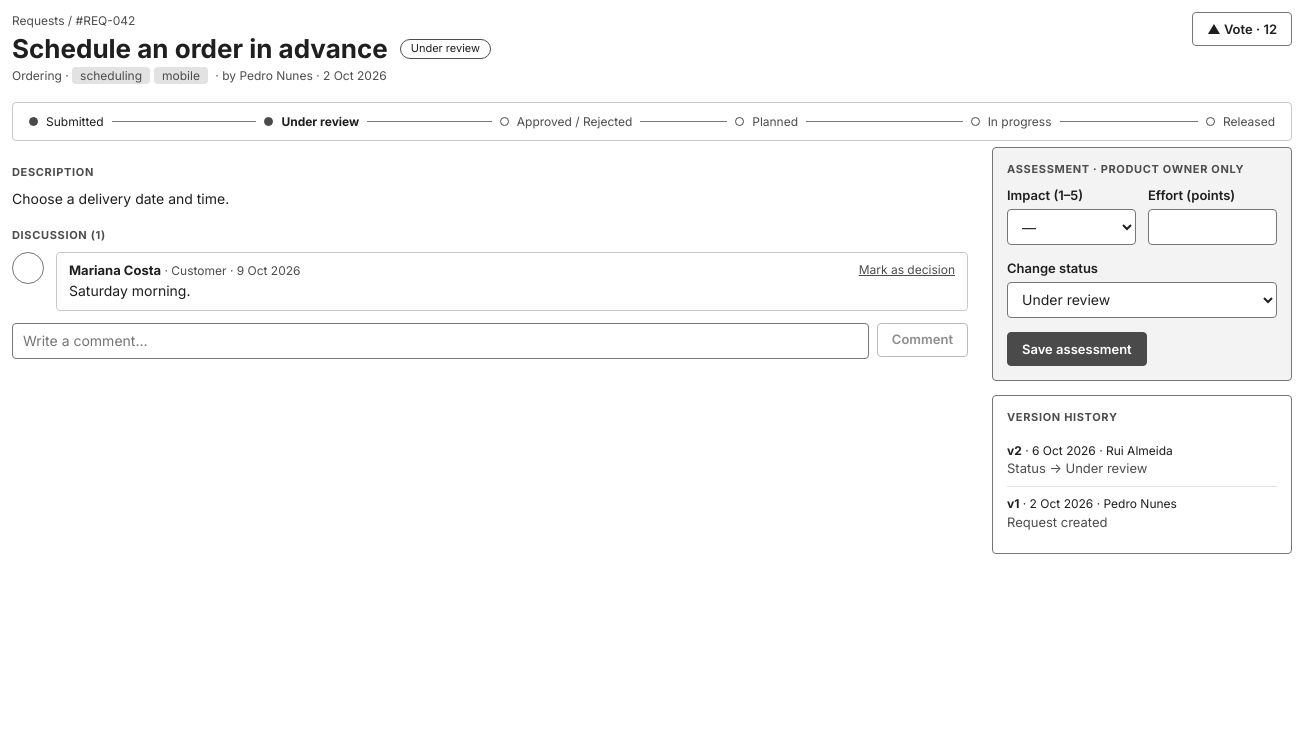
it: Request detail › lets the product owner save an assessment with the version seen
The image size is (1304, 732).
Select "5" in the dropdown labelled "Impact (1–5)": (1072, 227) [1007,209,1136,245]
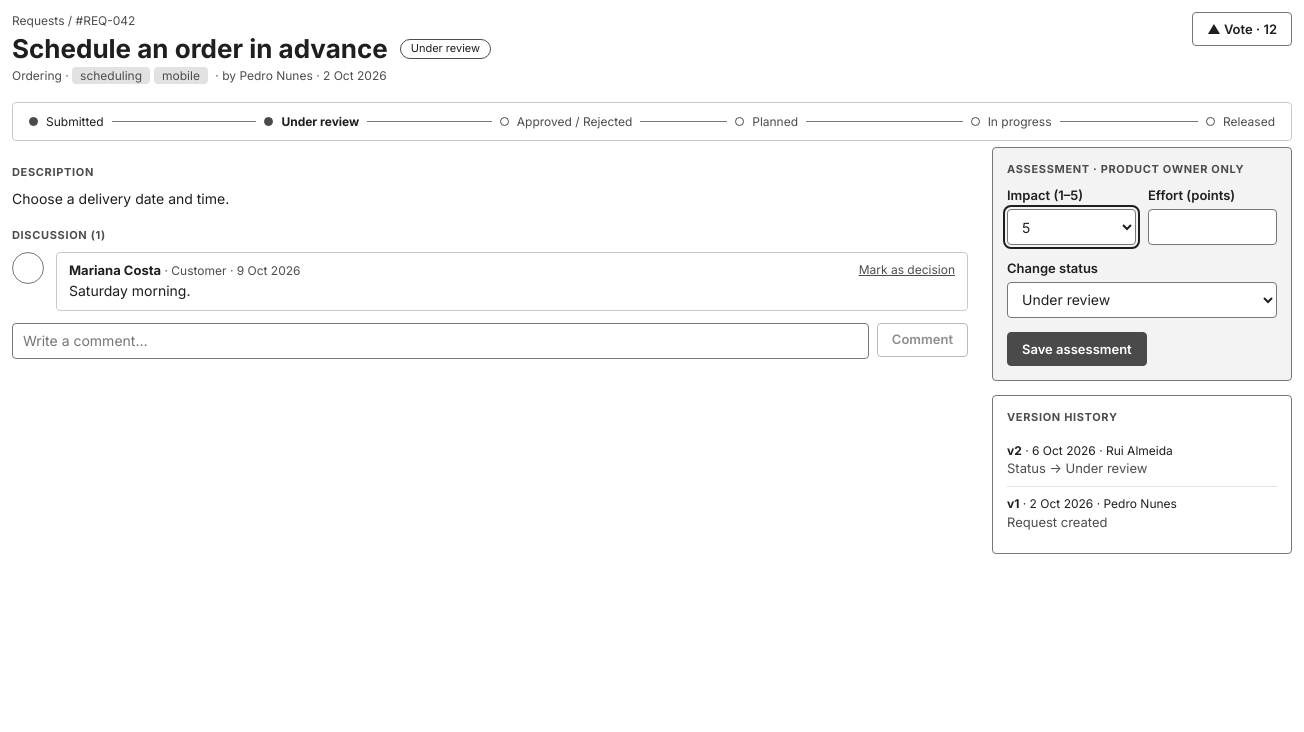
In the number field labelled "Effort (points)": (1212, 227) [1148,209,1277,245], type "8"
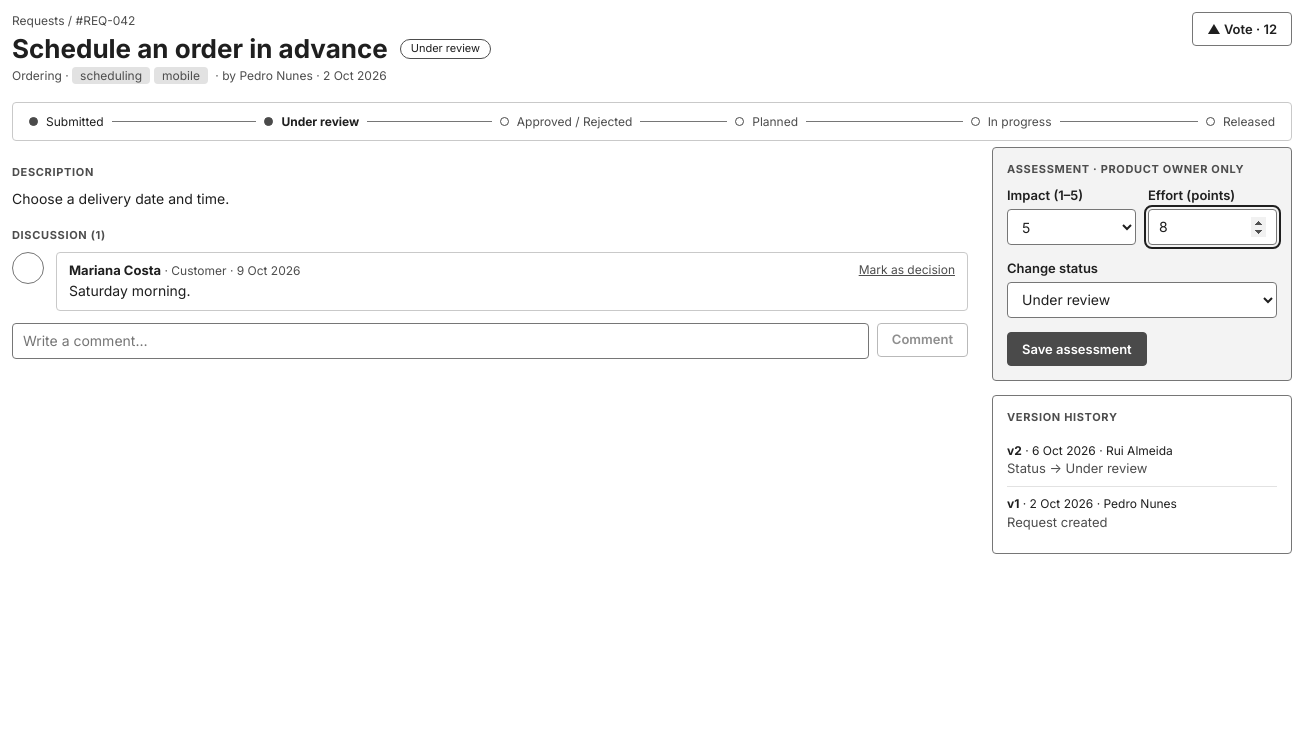
Select "Approved" in the dropdown labelled "Change status": (1142, 300) [1007,282,1277,318]
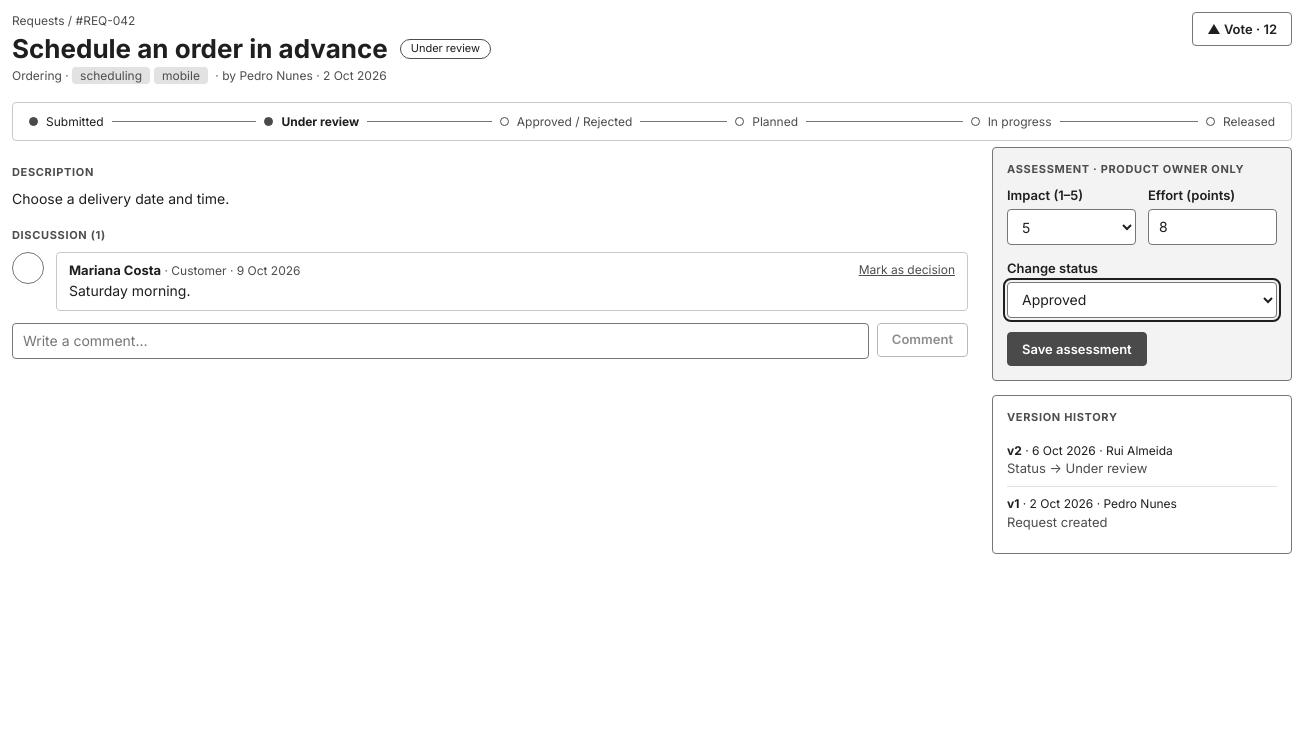
Click the button "Save assessment": (1077, 349) [1007,332,1147,366]
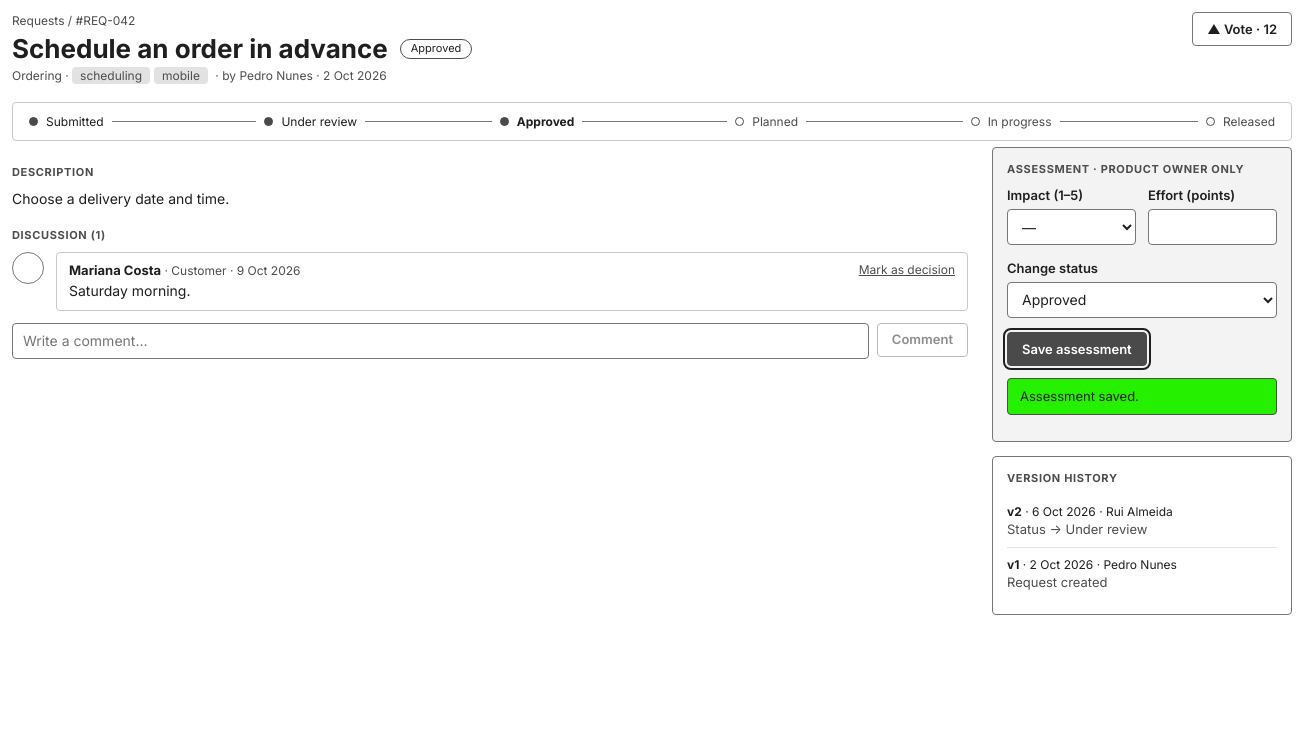
Now the message reads "Assessment saved.", box [1020,388,1139,404]
